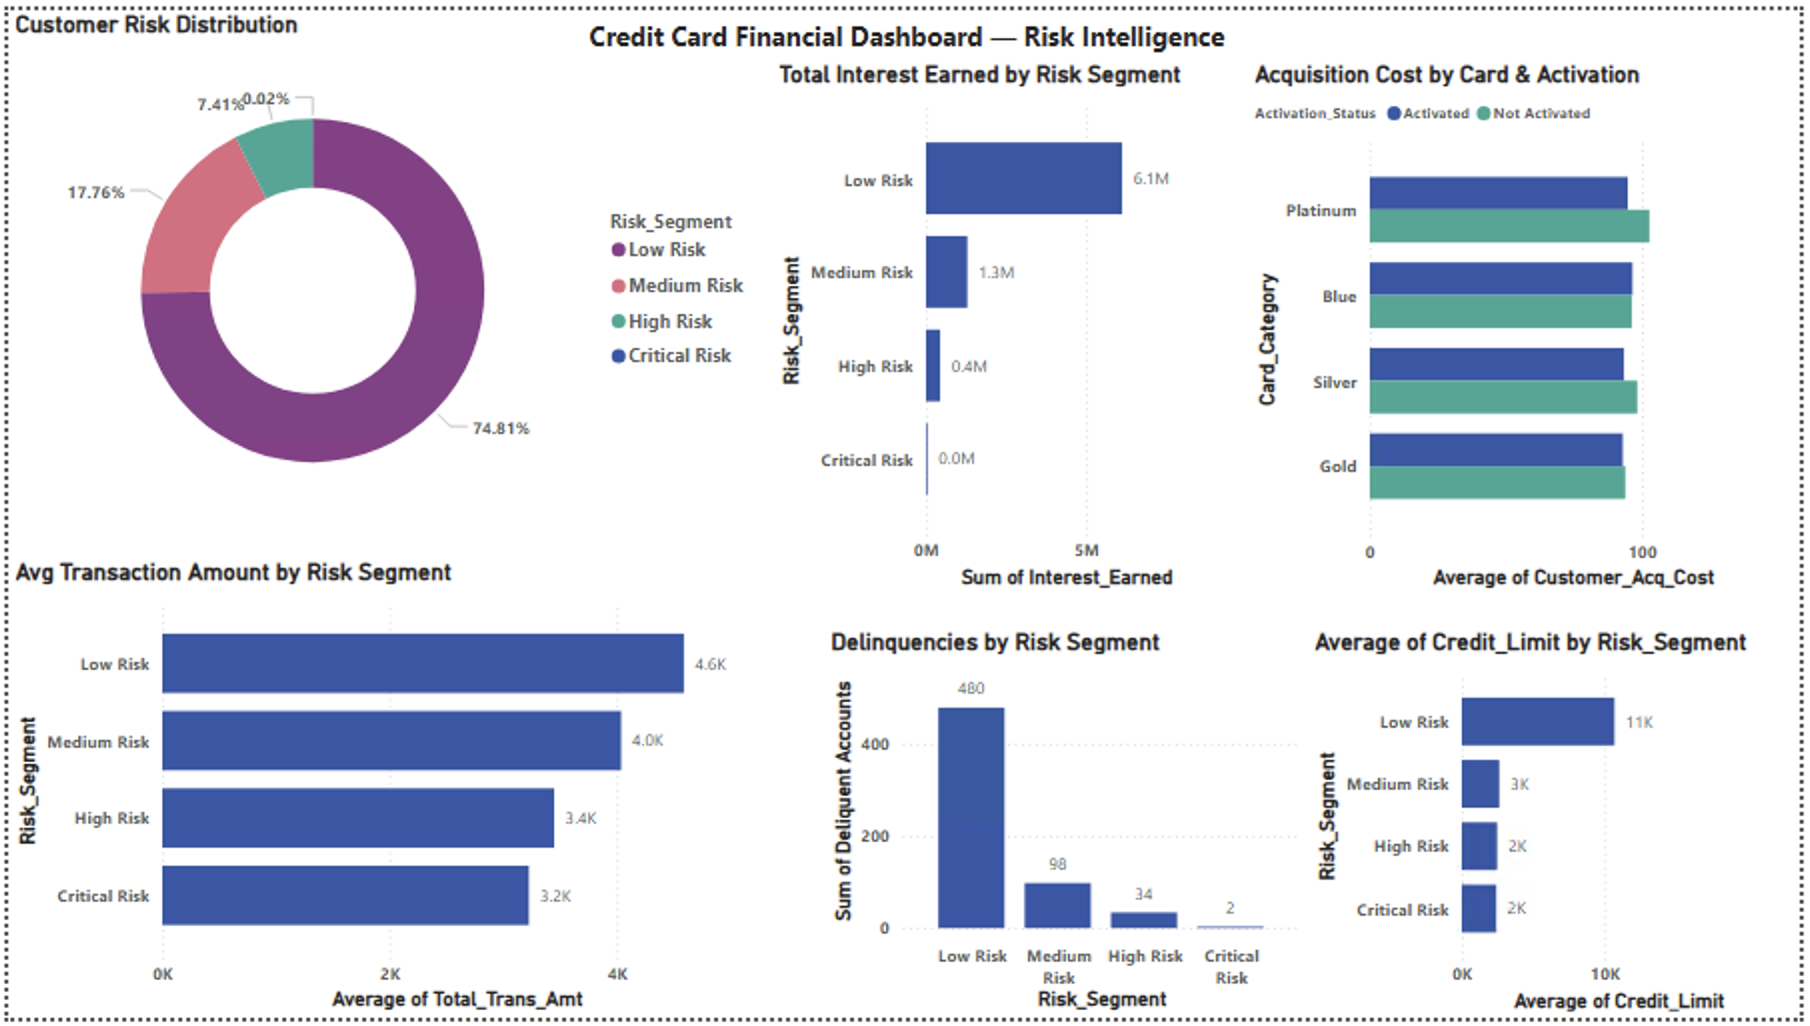

What the dashboard file says about the page in this screenshot:
{"tool":"powerbi","page":{"name":"Risk Intelligence","canvas":[1280,720],"ordinal":1},"visuals":[{"type":"donutChart","title":"Customer Risk Distribution","fields":{"Category":["credit_card.Risk_Segment"],"Y":["credit_card.Total Customers"]},"box":[0,0,545,381.7],"z":0},{"type":"clusteredBarChart","title":"Avg Transaction Amount by Risk Segment","fields":{"Category":["credit_card.Risk_Segment"],"Y":["Avg(credit_card.Total_Trans_Amt)"]},"box":[0,391.7,545,328.3],"z":1000},{"type":"clusteredColumnChart","title":"Delinquencies by Risk Segment","fields":{"Category":["credit_card.Risk_Segment"],"Y":["Sum(credit_card.Delinquent_Acc)"]},"box":[582.9,441.4,345.7,278.6],"z":2000},{"type":"clusteredBarChart","title":"Total Interest Earned by Risk Segment","fields":{"Category":["credit_card.Risk_Segment"],"Y":["Sum(credit_card.Interest_Earned)"]},"box":[545,35,326.7,381.7],"z":3000},{"type":"clusteredBarChart","title":"Acquisition Cost by Card & Activation","fields":{"Category":["credit_card.Card_Category"],"Y":["Avg(credit_card.Customer_Acq_Cost)"],"Series":["credit_card.Activation_Status"]},"box":[885,35,395,381.7],"z":4000},{"type":"textbox","box":[398.6,0,487.1,35.7],"z":5000},{"type":"clusteredBarChart","fields":{"Category":["credit_card.Risk_Segment"],"Y":["Avg(credit_card.Credit_Limit)"]},"box":[929,441,351,279],"z":7000}]}

Visuals, with their boxes in screenshot pixels (x1, y1, x2, y2), scaled from the page's 1280x720 canvas onto the 1810x1026 screenshot:
"Customer Risk Distribution" donutChart: x1=0 y1=0 x2=771 y2=544
"Avg Transaction Amount by Risk Segment" clusteredBarChart: x1=0 y1=558 x2=771 y2=1025
"Delinquencies by Risk Segment" clusteredColumnChart: x1=824 y1=629 x2=1313 y2=1025
"Total Interest Earned by Risk Segment" clusteredBarChart: x1=771 y1=50 x2=1233 y2=594
"Acquisition Cost by Card & Activation" clusteredBarChart: x1=1251 y1=50 x2=1809 y2=594
textbox: x1=564 y1=0 x2=1252 y2=51
clusteredBarChart - credit_card.Risk_Segment x Avg(credit_card.Credit_Limit): x1=1314 y1=628 x2=1809 y2=1025
